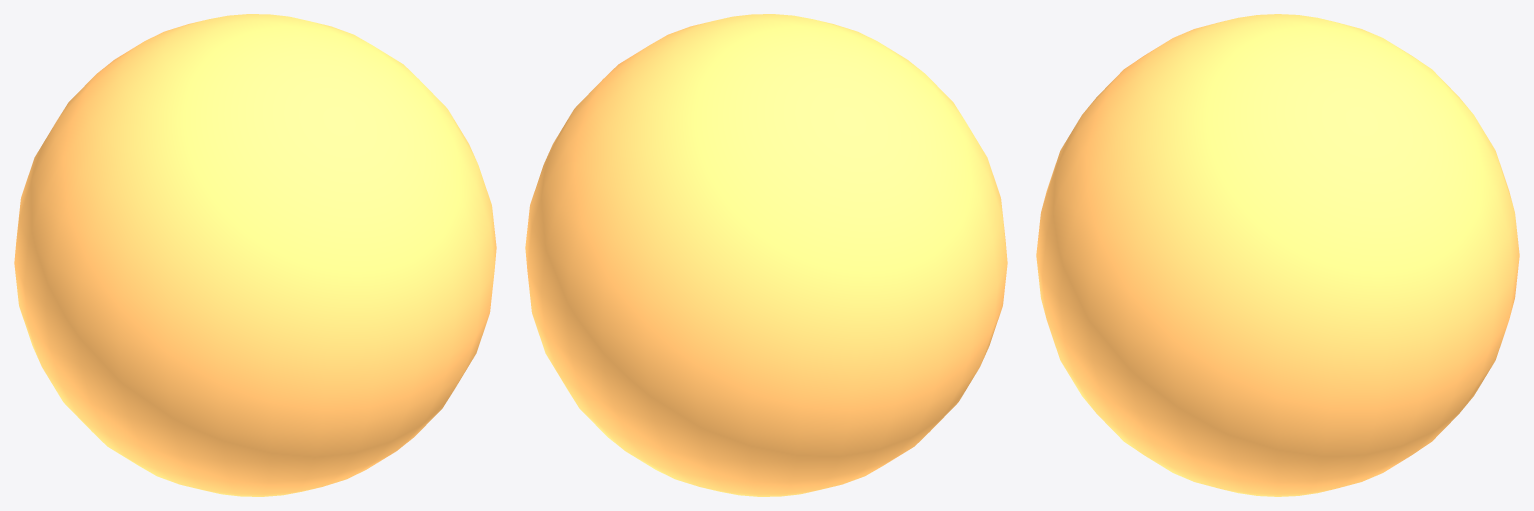
File: Orb_02_橘橙灵珠.glb
3 renders of one model, left to right at view 1: azimuth 30°, elevation 25°; view 2: azimuth 150°, elevation 25°; view 3: azimuth 270°, elevation 25°, orthographic.
Parts seen in each view (by area): view 1: Sphere; view 2: Sphere; view 3: Sphere.
Part boxes in pixels (bbox=[...]): Sphere: bbox=[14, 14, 496, 496]; Sphere: bbox=[525, 14, 1007, 496]; Sphere: bbox=[1036, 14, 1519, 496].
Bounding box in the file's own units: 0.96 × 0.96 × 0.96.
